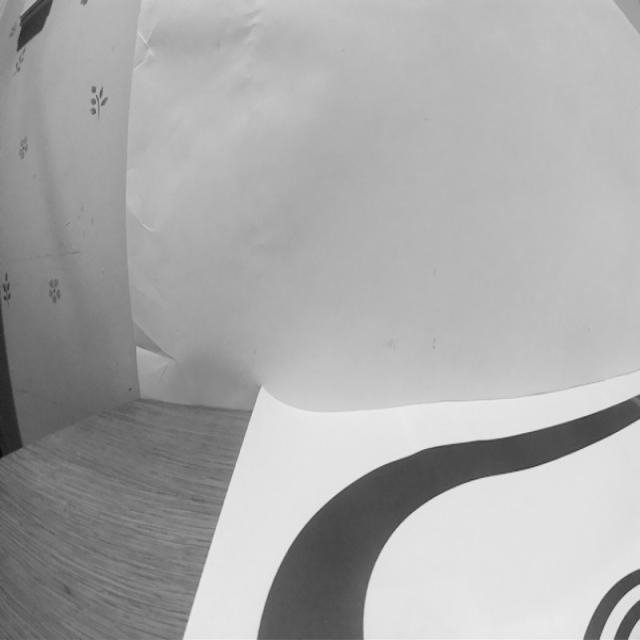laneRight: (246, 487, 409, 640)
